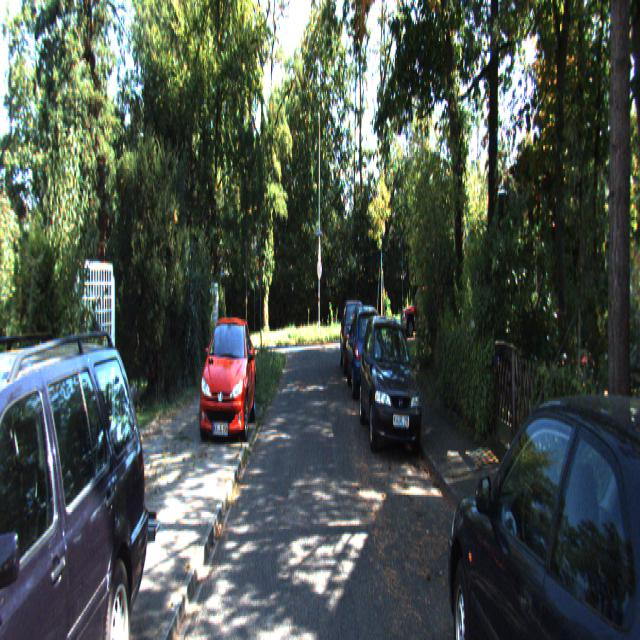Car: (447, 354, 639, 638), (0, 316, 156, 638), (358, 313, 425, 462), (196, 312, 258, 450), (346, 307, 386, 401), (400, 282, 446, 336), (340, 300, 371, 378)
